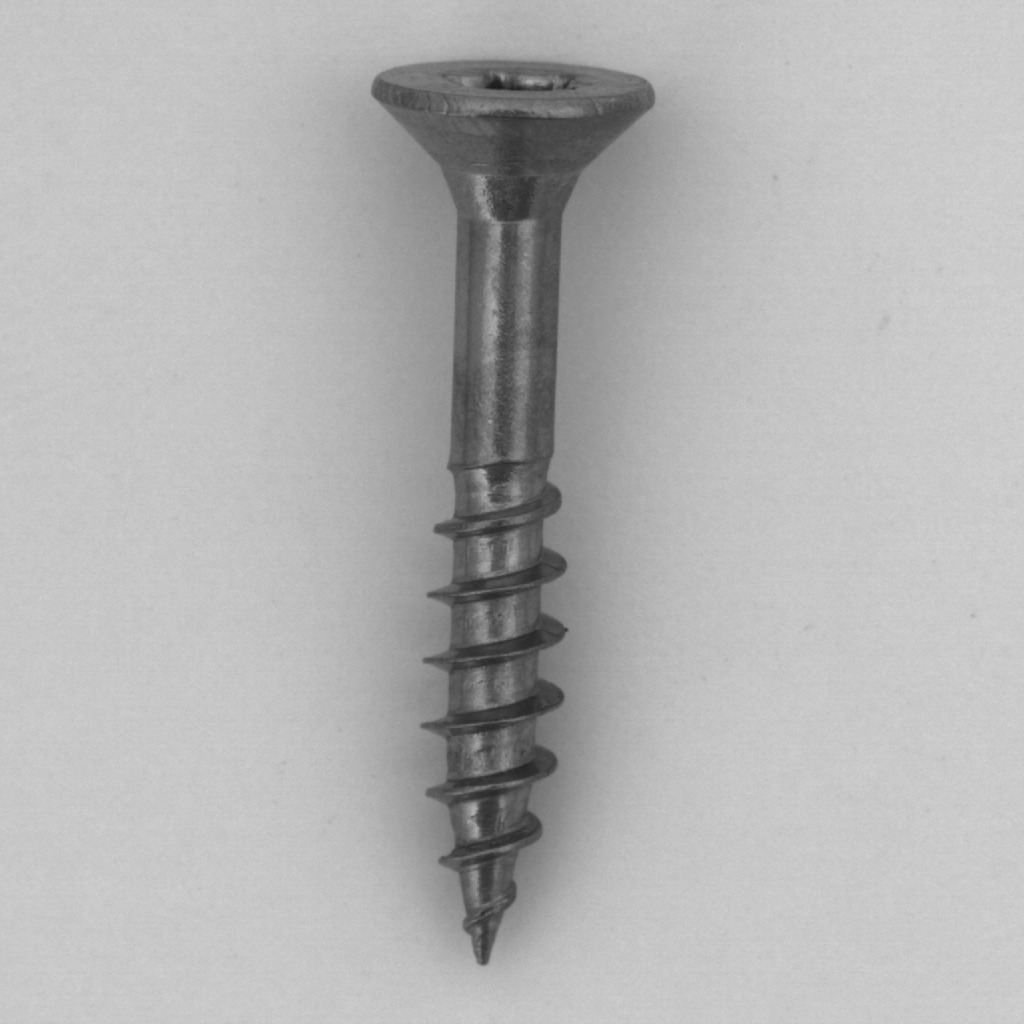good: (354, 41, 671, 994)
